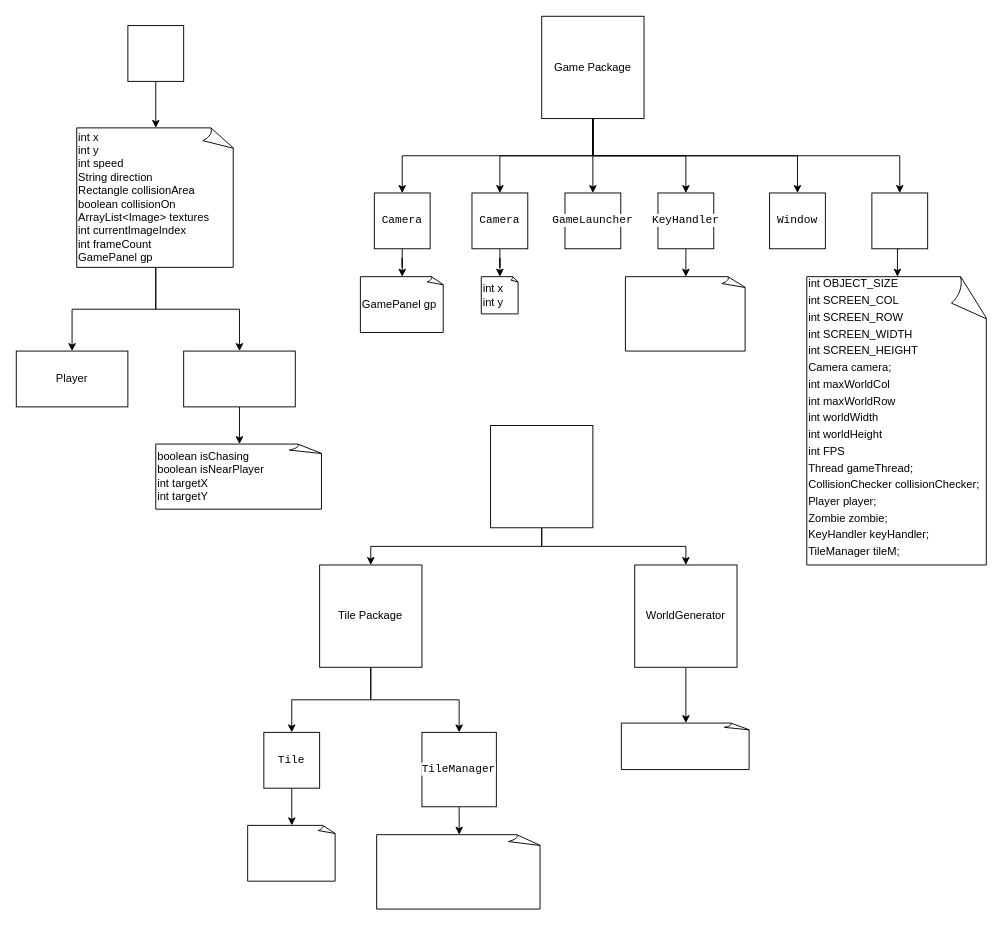
This 1004x925 diagram has some shape labels left out. Here are the shapes that lost their labels. From the top down, the centre of each, then its label:
At (x=155, y=53): "Entity".
At (x=899, y=220): "GamePanel".
At (x=685, y=313): "boolean upPressed boolean downPressed boolean leftPressed boolean rightPressed".
At (x=239, y=378): "Zombie".
At (x=541, y=476): "World Package".
At (x=685, y=746): "List<List<Integer>> world".
At (x=291, y=852): "Image image boolean collision".
At (x=459, y=871): "GamePanel gp ArrayList<Tile> tile WorldGenerator worldGenerator".
